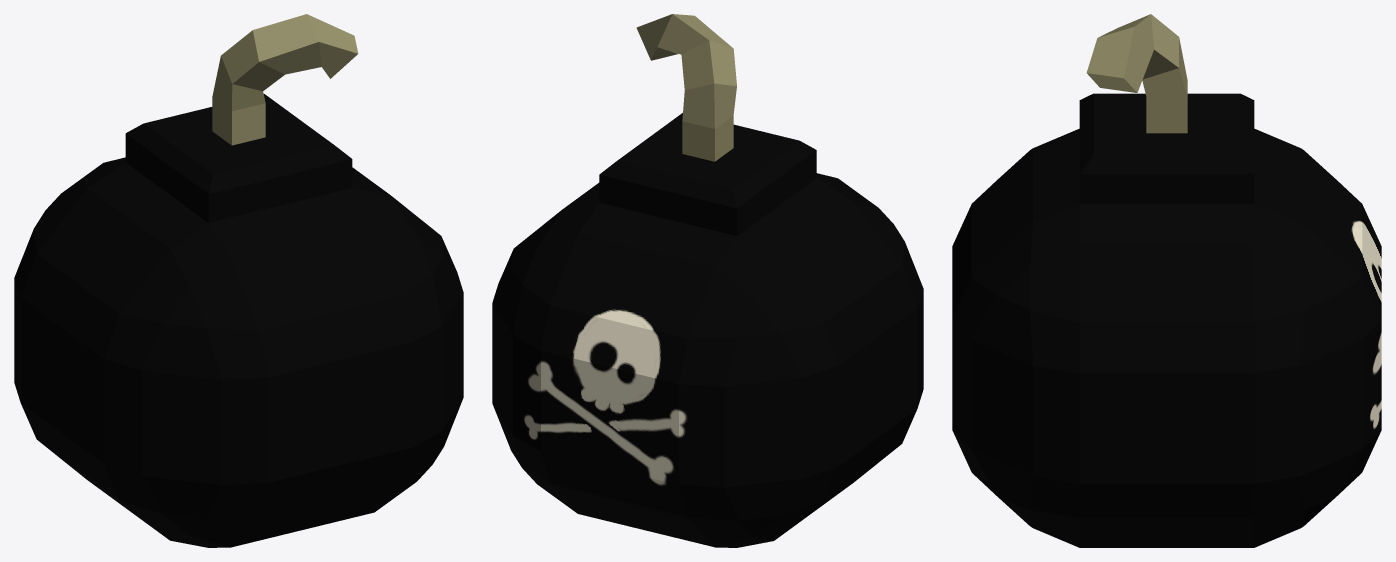
Rendered from Pirat Bomb.fbx.
The picture shows the model from 3 angles, left to right: view 1: azimuth 30°, elevation 25°; view 2: azimuth 150°, elevation 25°; view 3: azimuth 270°, elevation 25°; orthographic projection. The views are drawn at different scales.
Visible parts, largest first — view 1: Pirat Bomb; view 2: Pirat Bomb; view 3: Pirat Bomb.
Boxes of the visible parts, x1,y1,x2,y2 form: Pirat Bomb: (14,14,463,547); Pirat Bomb: (492,14,923,547); Pirat Bomb: (952,14,1381,547).
Bounding box in the file's own units: 0.9818 × 1.29 × 0.9818.
